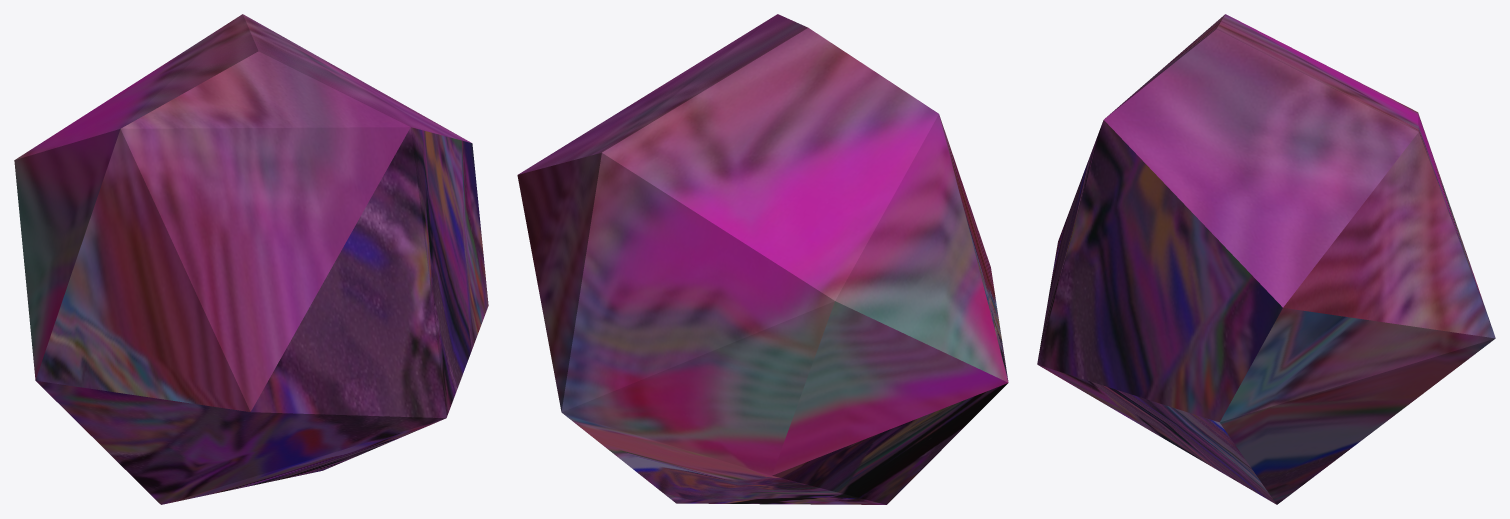
File: basicaanim1.glb
The picture shows the model from 3 angles, left to right: view 1: azimuth 30°, elevation 25°; view 2: azimuth 150°, elevation 25°; view 3: azimuth 270°, elevation 25°; orthographic projection. The views are drawn at different scales.
Parts seen in each view (by area): view 1: Icosphere; view 2: Icosphere; view 3: Icosphere.
Boxes of the visible parts, box(x1,y1,x2,y2) form: Icosphere: box(14, 14, 488, 504); Icosphere: box(517, 14, 1008, 504); Icosphere: box(1037, 14, 1495, 504).
Size of the model in its own units: 2.48 by 2.41 by 2.32.
Materials: 1 (1 with a texture image).
